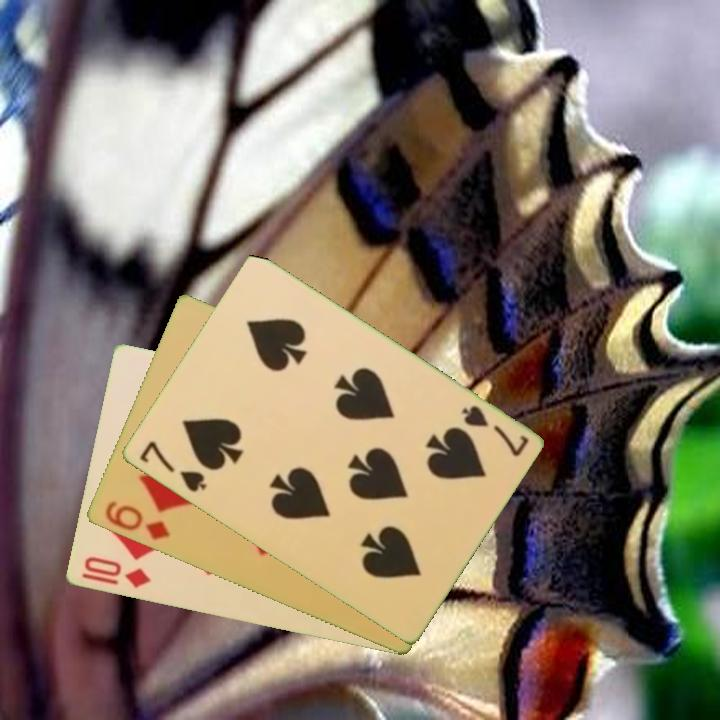10d: (80, 553, 154, 591)
6d: (101, 497, 172, 544)
7s: (457, 401, 531, 460), (135, 437, 209, 495)
